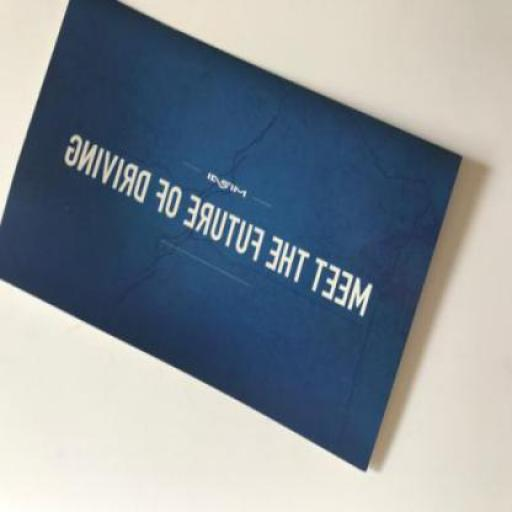paper: (1, 1, 461, 474)
